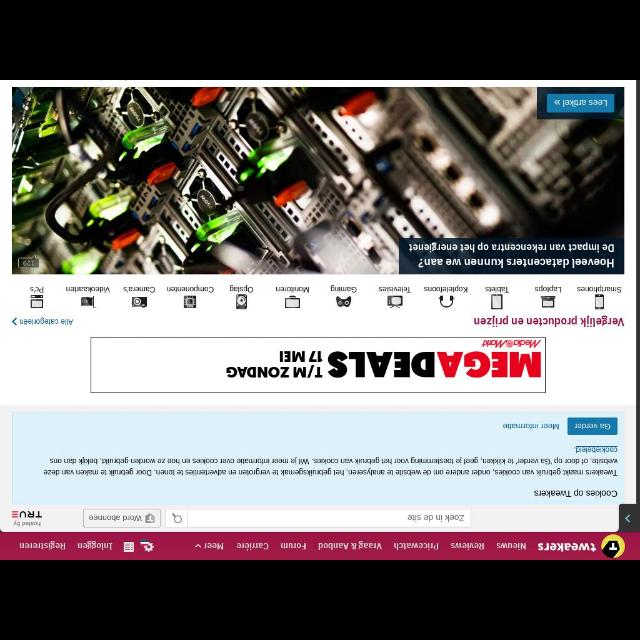backgroundimage: (12, 87, 624, 273)
icon: (89, 514, 143, 522), (386, 294, 404, 310), (438, 294, 456, 308), (284, 295, 300, 309), (30, 294, 44, 310), (539, 296, 557, 308), (130, 296, 148, 308), (491, 294, 504, 310), (183, 295, 197, 309), (336, 296, 352, 308), (235, 294, 247, 310), (81, 296, 97, 308), (594, 293, 604, 311), (123, 541, 135, 553), (171, 512, 183, 524), (624, 514, 632, 524), (12, 316, 18, 326), (553, 98, 561, 105), (194, 544, 202, 548)
iframe: (91, 336, 546, 394)
image: (600, 534, 626, 558), (12, 509, 42, 527), (139, 540, 155, 552), (145, 512, 155, 524)
input: (165, 509, 472, 526)
link: (574, 446, 618, 454)
multitab: (28, 284, 622, 310), (195, 540, 528, 550)
spinner: (194, 542, 223, 550)
text: (44, 446, 618, 476), (407, 243, 615, 269), (473, 315, 625, 327), (534, 488, 618, 498), (317, 541, 383, 551), (536, 542, 598, 552), (20, 316, 74, 326), (18, 540, 66, 550), (407, 514, 465, 522), (393, 541, 439, 551), (576, 284, 622, 294), (503, 422, 559, 430), (425, 284, 469, 294), (562, 99, 608, 108), (166, 284, 214, 292), (76, 540, 114, 550), (450, 541, 486, 551), (276, 284, 310, 294), (574, 422, 610, 431), (237, 540, 269, 550), (123, 284, 155, 294), (496, 541, 526, 551), (534, 284, 562, 294), (330, 284, 358, 294), (66, 286, 112, 292), (485, 284, 509, 294), (280, 542, 308, 550), (378, 286, 412, 292), (230, 284, 254, 292), (203, 542, 224, 550), (29, 285, 45, 293)
textbutton: (83, 509, 161, 526), (546, 93, 614, 111), (567, 417, 617, 435)
